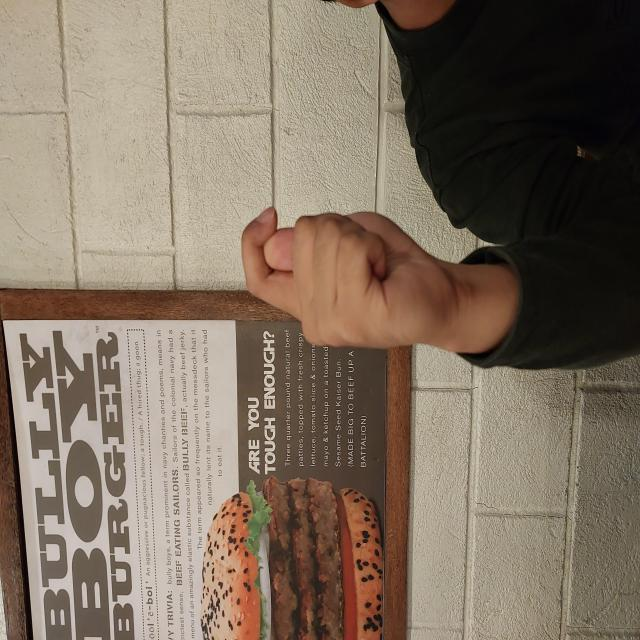T: (289, 238, 441, 461)
